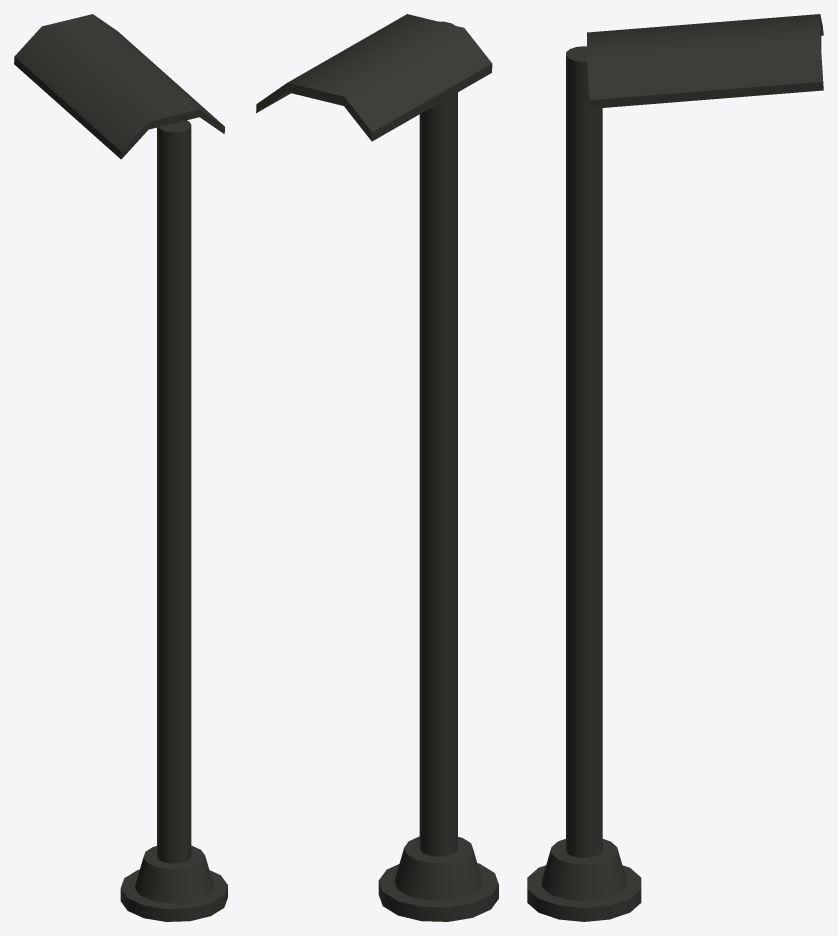
File: Prop_LampPost.FBX
The picture shows the model from 3 angles, left to right: view 1: azimuth 30°, elevation 25°; view 2: azimuth 150°, elevation 25°; view 3: azimuth 270°, elevation 25°; orthographic projection. The views are drawn at different scales.
Visible parts, largest first — view 1: Plane001; view 2: Plane001; view 3: Plane001.
Part boxes in pixels (x1=…): Plane001: x1=14, y1=14, x2=227, y2=921; Plane001: x1=256, y1=14, x2=498, y2=921; Plane001: x1=527, y1=14, x2=823, y2=921.
Size of the model in its own units: 8.74 by 64.56 by 19.93.
Materials: 1 (1 with a texture image).
